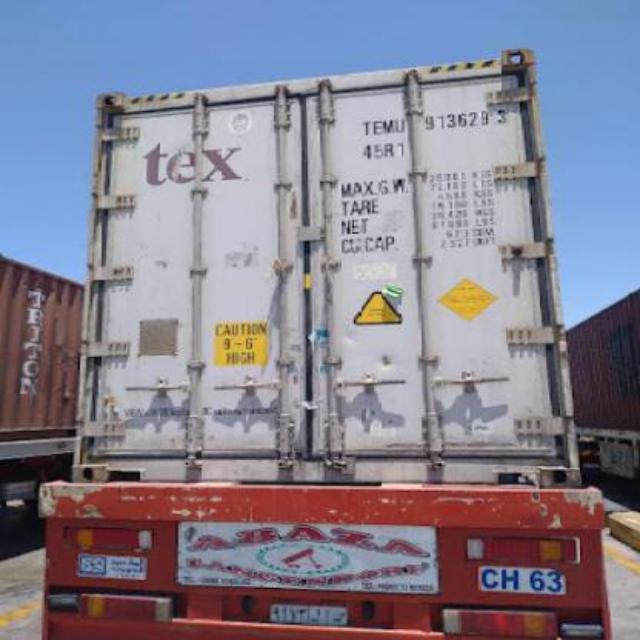1: (436, 114, 446, 130)
2: (470, 111, 478, 129)
3: (494, 108, 508, 124), (448, 112, 456, 128)
6: (456, 113, 468, 129)
9: (424, 116, 436, 132), (480, 111, 490, 127)
E: (372, 122, 384, 134)
M: (382, 119, 394, 135)
T: (360, 120, 372, 136)
U: (394, 117, 406, 133)
